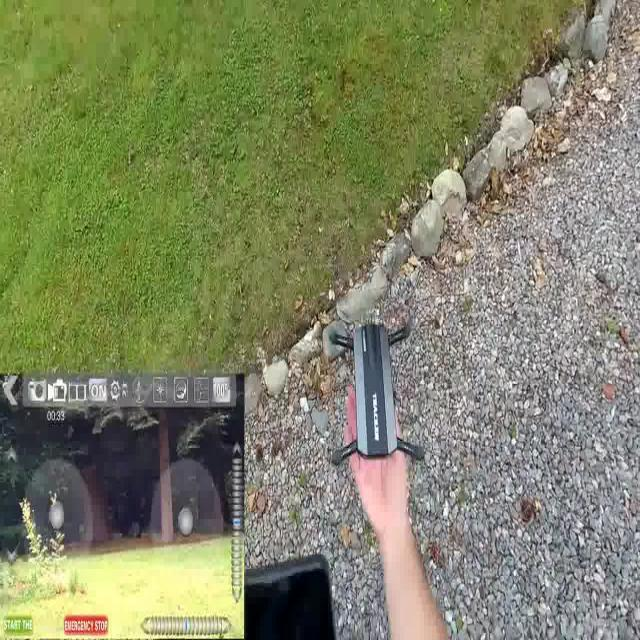Drone_FW: (325, 319, 429, 483)
